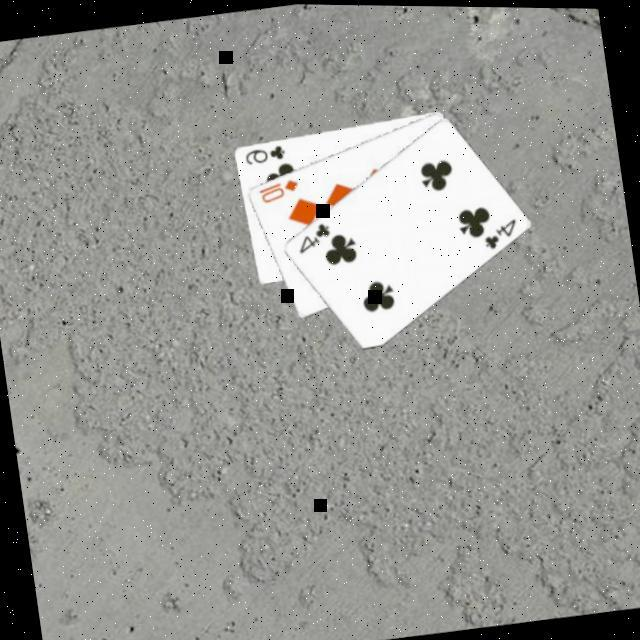10D: (252, 172, 300, 205)
4C: (476, 212, 520, 252), (290, 217, 334, 256)
6C: (238, 138, 287, 168)
